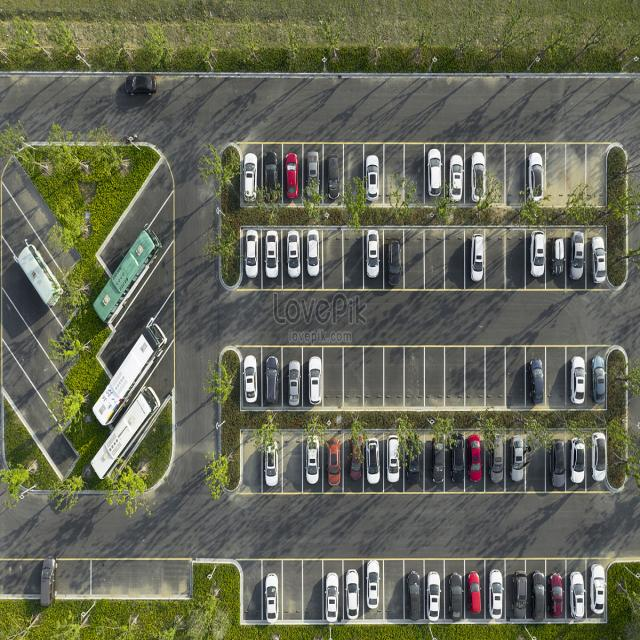cars: (123, 74, 163, 105)
libre: (0, 300, 79, 468), (323, 344, 525, 408), (59, 554, 190, 598), (404, 228, 465, 293), (548, 144, 607, 208), (111, 170, 162, 242), (27, 176, 63, 256), (381, 139, 426, 202), (485, 229, 528, 292), (282, 560, 324, 624), (485, 142, 523, 210), (321, 224, 361, 287), (0, 557, 41, 604), (344, 149, 366, 211), (241, 426, 260, 497), (276, 439, 304, 484), (239, 562, 259, 625), (385, 564, 402, 623), (529, 436, 546, 492), (548, 356, 566, 400), (152, 263, 162, 327)
ocupado: (307, 433, 620, 495), (407, 565, 606, 625), (90, 364, 161, 482), (241, 144, 344, 210), (240, 343, 323, 408), (530, 222, 610, 286), (240, 228, 323, 285), (428, 141, 487, 216), (10, 235, 60, 314), (325, 562, 384, 625), (367, 224, 402, 301), (572, 348, 609, 417), (94, 254, 130, 324), (261, 564, 284, 626), (532, 150, 550, 212), (530, 351, 546, 416), (472, 227, 486, 287), (368, 144, 378, 205), (268, 428, 277, 495)
